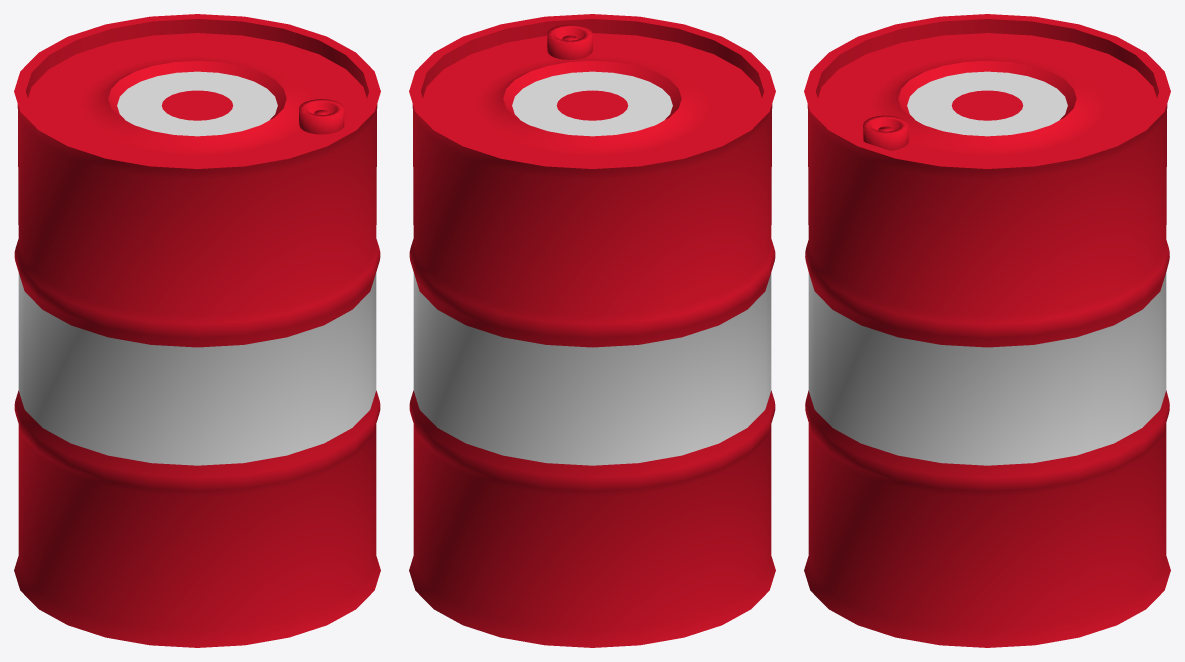
The model's file is Бочка.fbx.
The picture shows the model from 3 angles, left to right: view 1: azimuth 30°, elevation 25°; view 2: azimuth 150°, elevation 25°; view 3: azimuth 270°, elevation 25°; orthographic projection.
Parts seen in each view (by area): view 1: Бочка, Пимпочка; view 2: Бочка, Пимпочка; view 3: Бочка, Пимпочка.
Boxes of the visible parts, box(x1,y1,x2,y2) form: Бочка: box(14, 14, 380, 647); Пимпочка: box(299, 99, 344, 134); Бочка: box(409, 14, 775, 647); Пимпочка: box(547, 24, 592, 59); Бочка: box(804, 14, 1170, 647); Пимпочка: box(863, 115, 908, 150).
Size of the model in its own units: 61.53 by 89 by 61.53.
